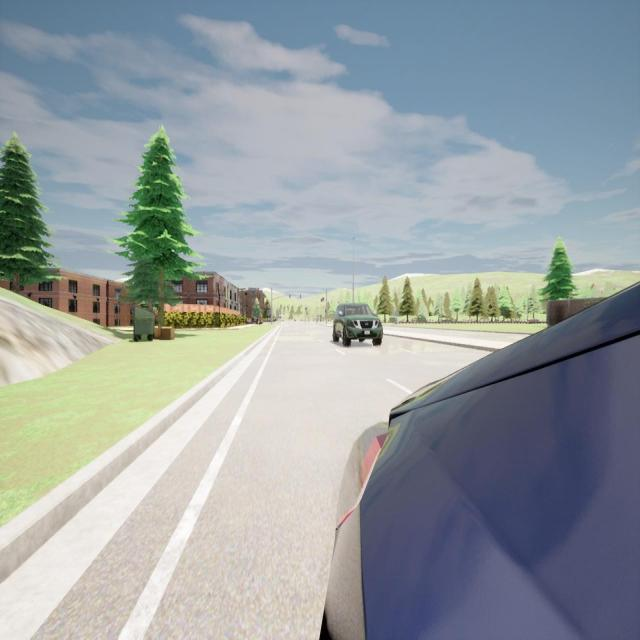Traffic_Signs: (392, 312, 399, 316)
Vehicle: (326, 284, 640, 638), (332, 303, 383, 346)
traffic_light: (300, 293, 301, 299), (289, 294, 290, 299), (321, 298, 322, 302), (323, 297, 324, 301)
